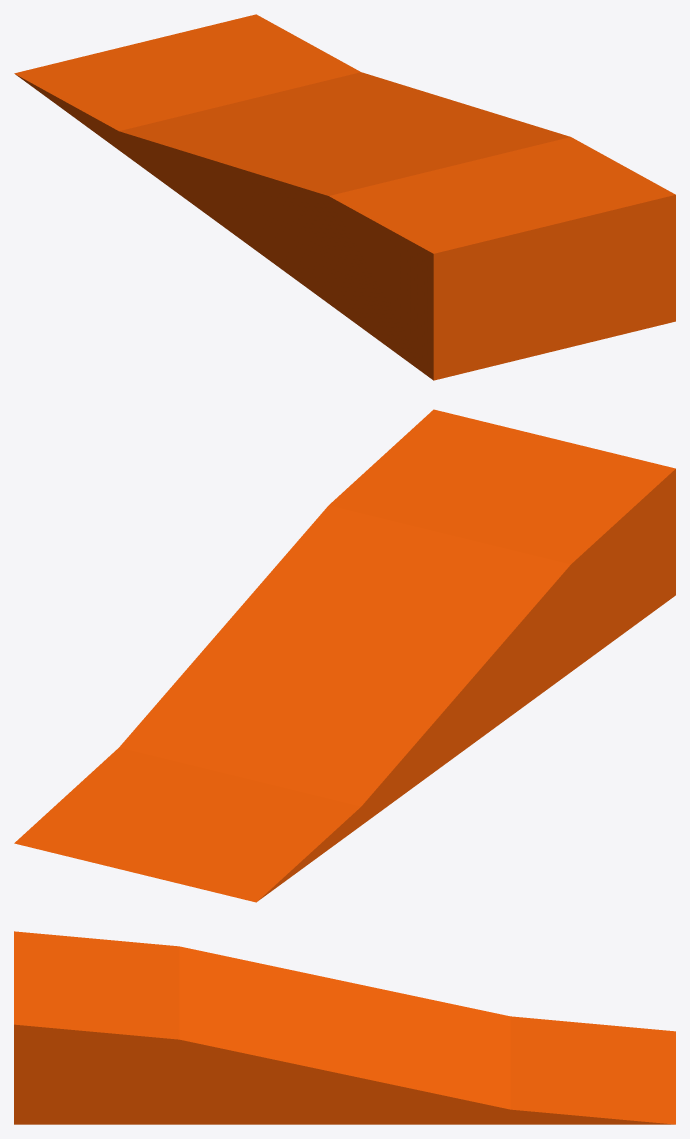
Rendered from slider.dae.
The picture shows the model from 3 angles, top to bottom: view 1: azimuth 30°, elevation 25°; view 2: azimuth 150°, elevation 25°; view 3: azimuth 270°, elevation 25°; orthographic projection. The views are drawn at different scales.
Parts seen in each view (by area): view 1: object1; view 2: object1; view 3: object1.
Boxes of the visible parts, x1,y1,x2,y2 form: object1: (14,14,675,380); object1: (14,409,675,902); object1: (14,931,675,1124).
Size of the model in its own units: 1 by 3 by 0.5.
